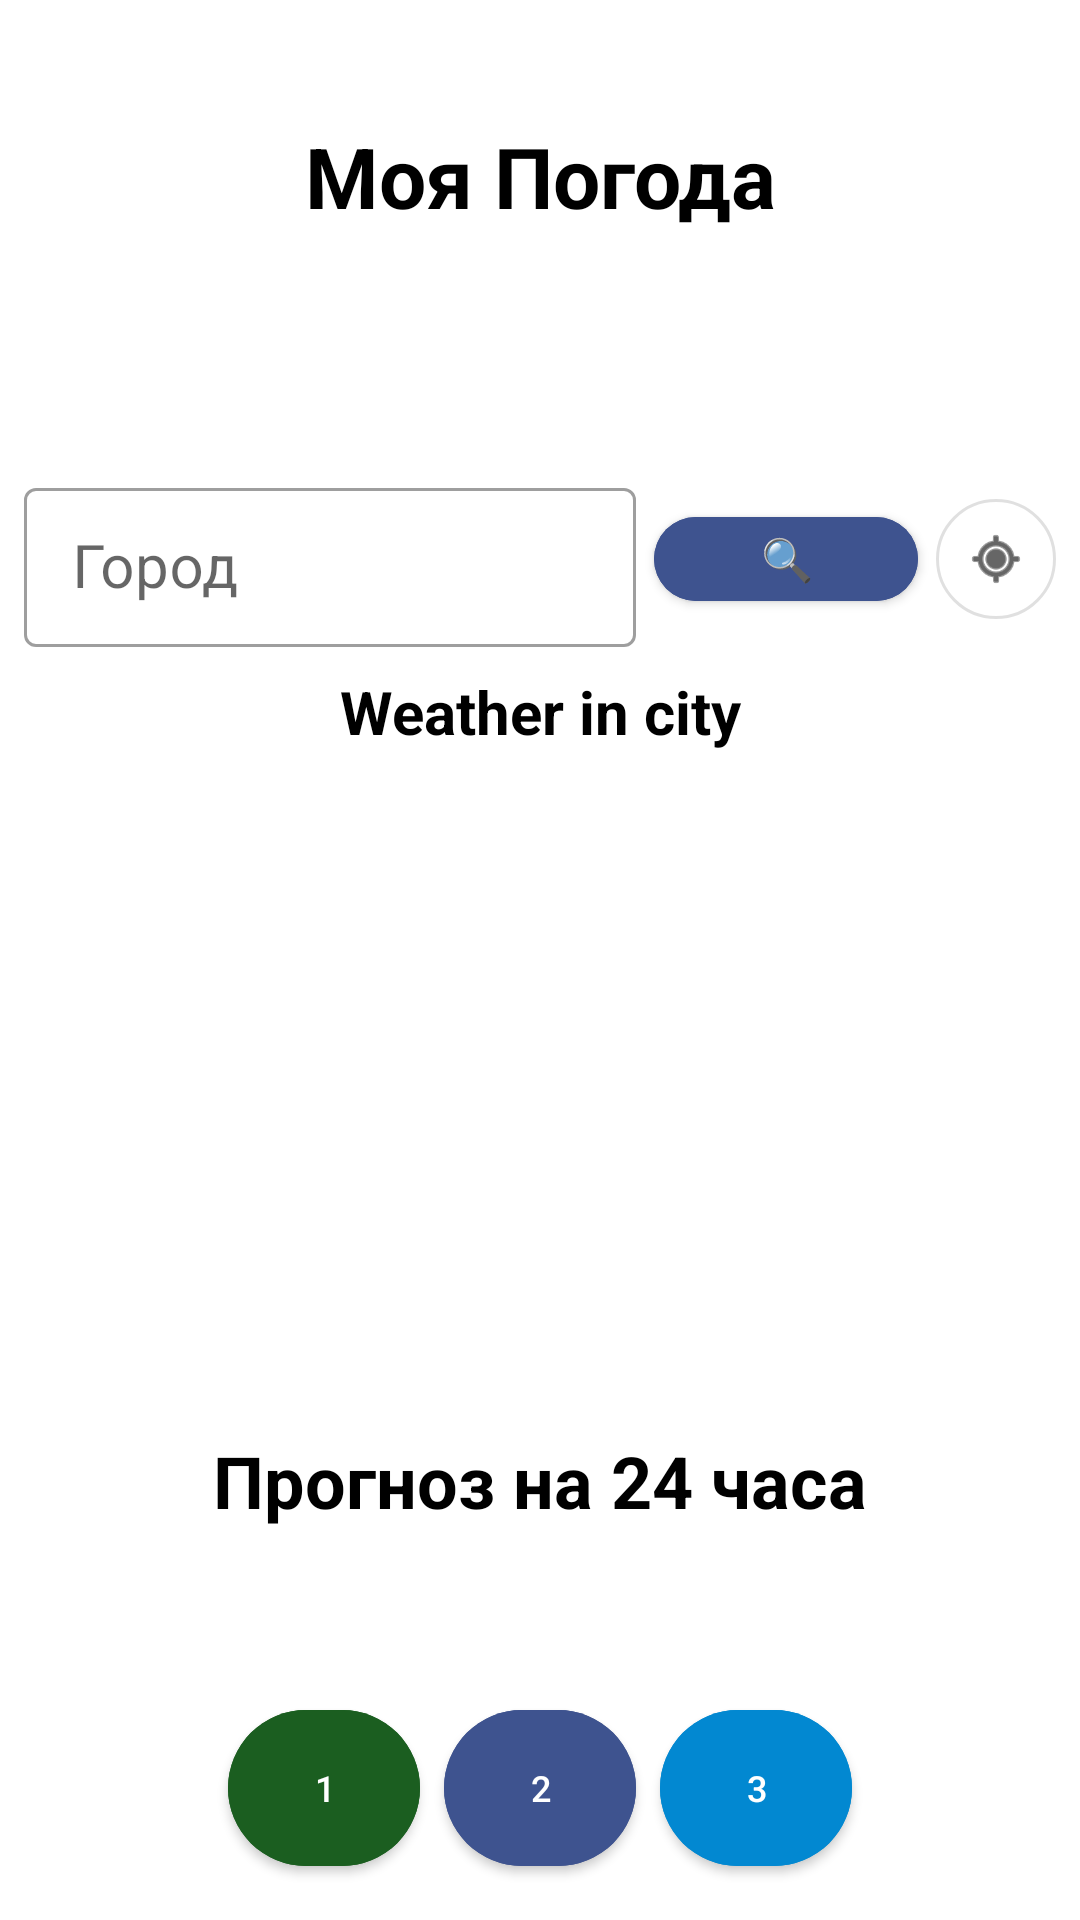

Icon click points for this 1080 x 1920 phone screenshot, format [x,y]:
mylocation: [996,559]
